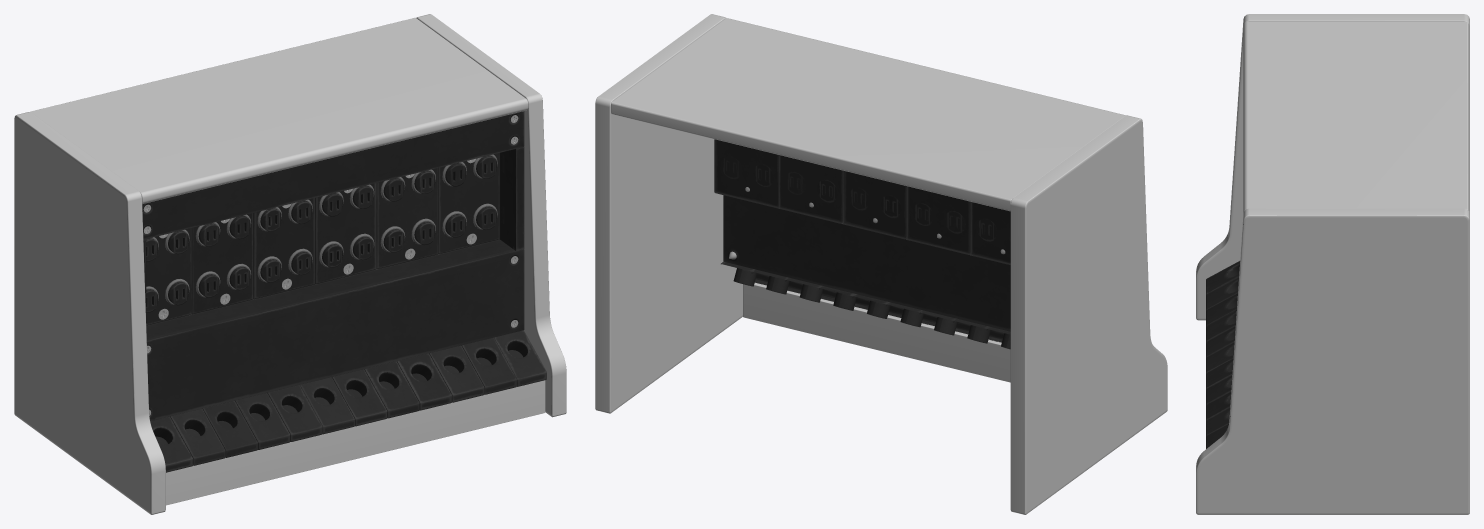
Rendered from switchboard.fbx.
The picture shows the model from 3 angles, left to right: view 1: azimuth 30°, elevation 25°; view 2: azimuth 150°, elevation 25°; view 3: azimuth 270°, elevation 25°; orthographic projection. The views are drawn at different scales.
Visible parts, largest first — view 1: Switchboard; view 2: Switchboard; view 3: Switchboard.
Boxes of the visible parts, <box> form: Switchboard: <box>14,14,566,514</box>; Switchboard: <box>595,14,1167,514</box>; Switchboard: <box>1196,14,1469,514</box>.
Bounding box in the file's own units: 85.06 × 59.04 × 48.85.
